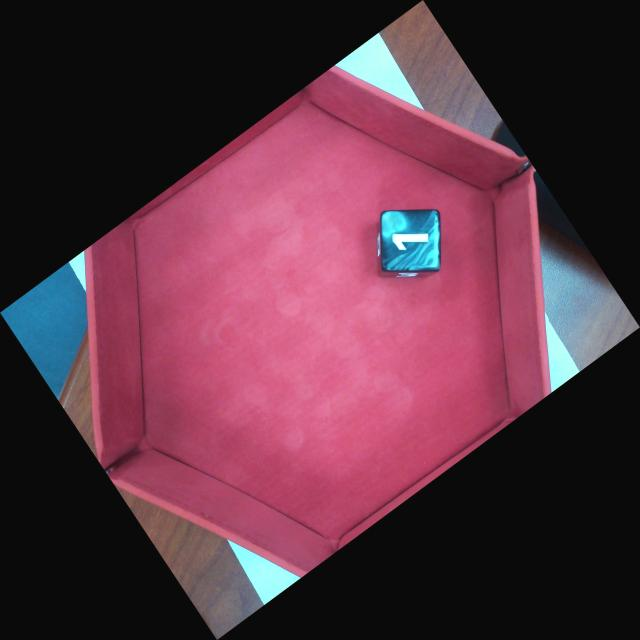dice: (381, 211, 440, 271)
